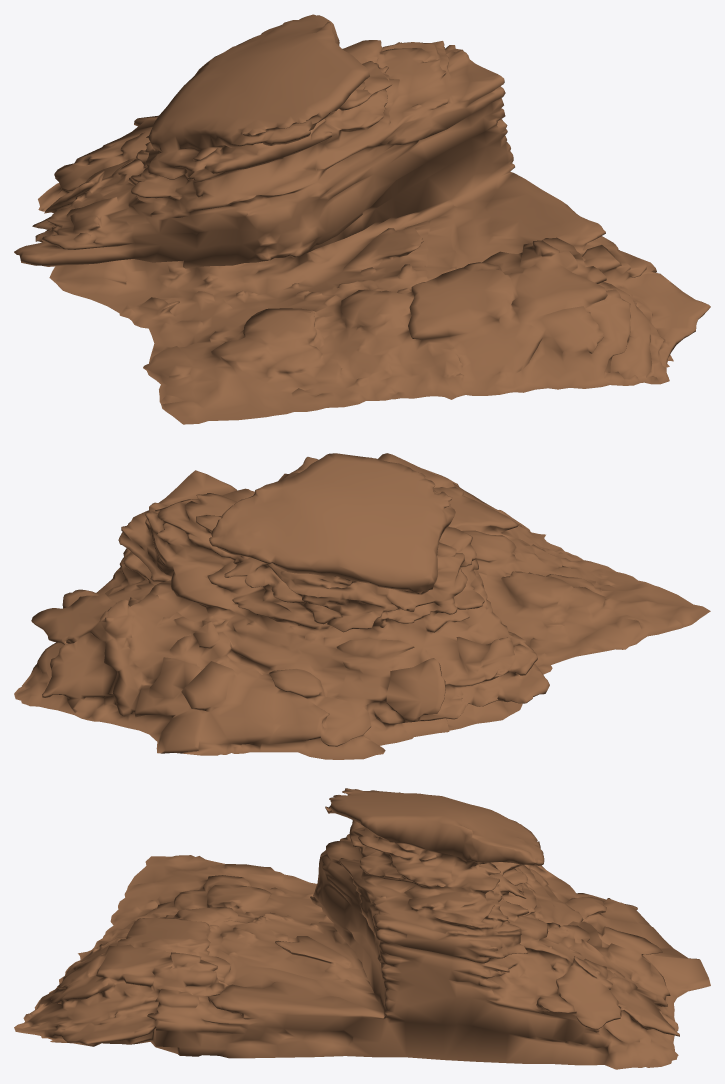
File: Mesh_Obstacle_01_AA.FBX
3 views of the same model, one above another, from view 1: azimuth 30°, elevation 25°; view 2: azimuth 150°, elevation 25°; view 3: azimuth 270°, elevation 25° (orthographic). The views are drawn at different scales.
Parts seen in each view (by area): view 1: MESH_LOD0; view 2: MESH_LOD0; view 3: MESH_LOD0.
Boxes of the visible parts, x1,y1,x2,y2 form: MESH_LOD0: (14,14,710,424); MESH_LOD0: (14,453,710,759); MESH_LOD0: (14,788,710,1069).
Size of what is drawn, in the model's own units: 116 by 41.67 by 156.
